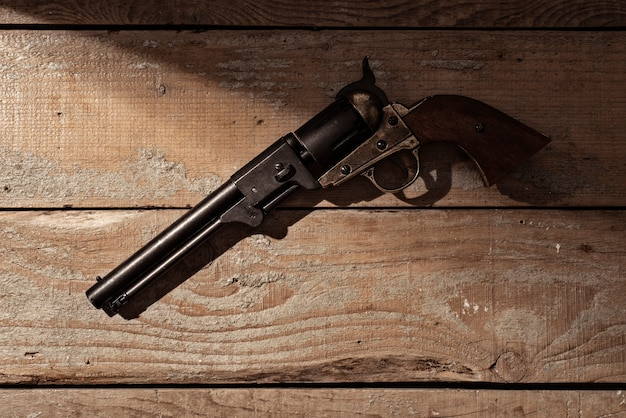gun: (87, 55, 551, 317)
